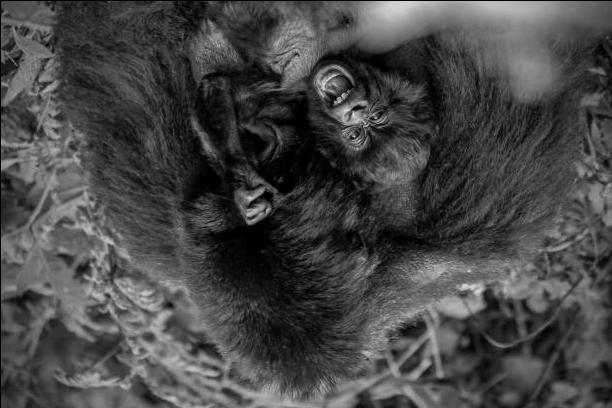goriile_montagne: (41, 0, 568, 361), (175, 0, 439, 186)
